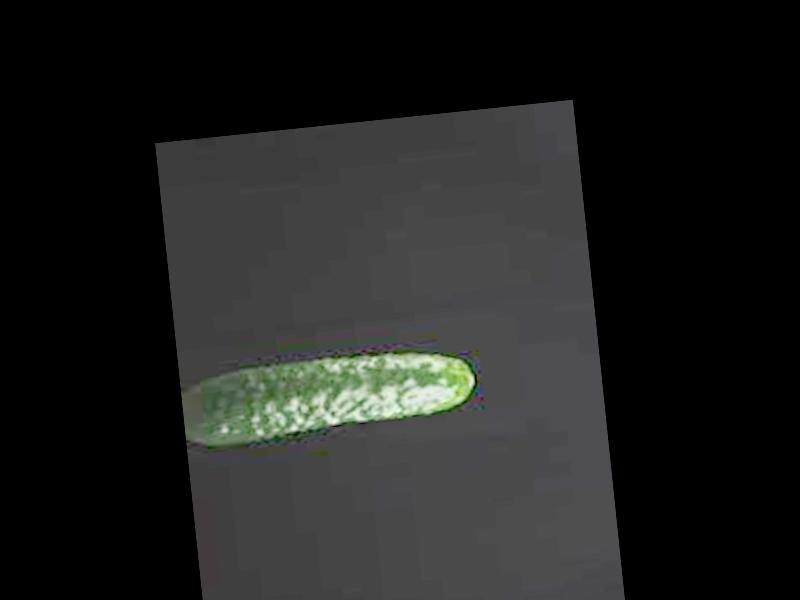Cucumber: (178, 343, 480, 449)
